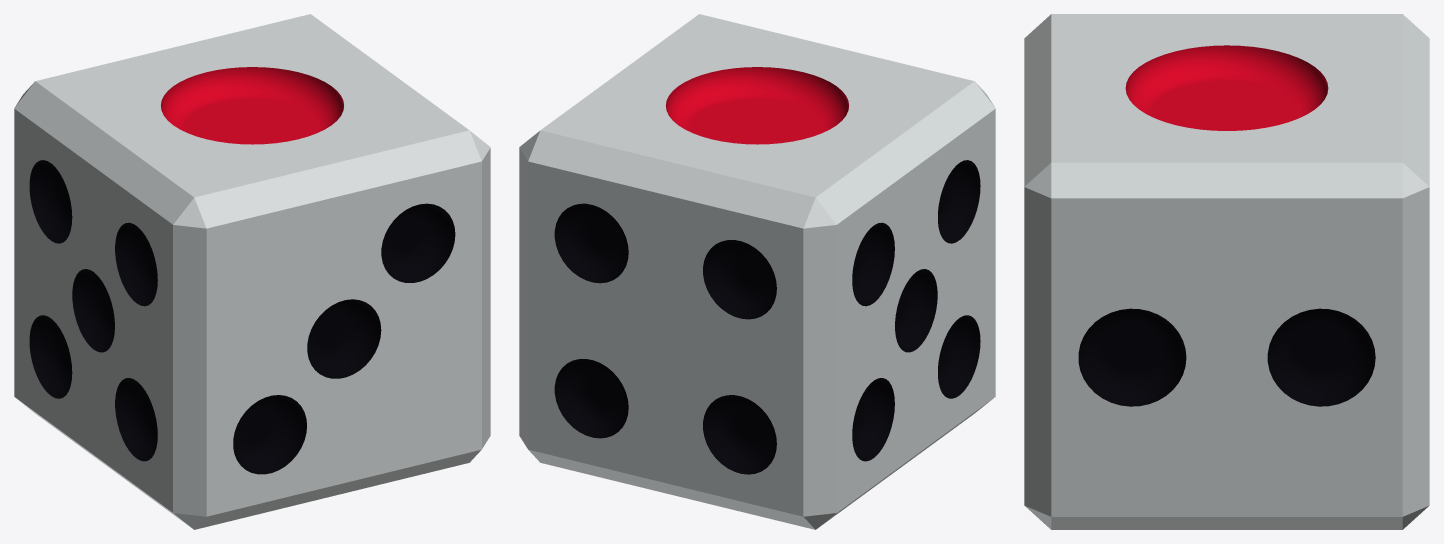
The picture shows the model from 3 angles, left to right: view 1: azimuth 30°, elevation 25°; view 2: azimuth 150°, elevation 25°; view 3: azimuth 270°, elevation 25°; orthographic projection. The views are drawn at different scales.
Visible parts, largest first — view 1: Part1; view 2: Part1; view 3: Part1.
Part boxes in pixels (<box>): Part1: <box>14,14,490,529</box>; Part1: <box>519,14,995,529</box>; Part1: <box>1024,14,1429,529</box>.
Bounding box in the file's own units: 0.03 × 0.03 × 0.03.
